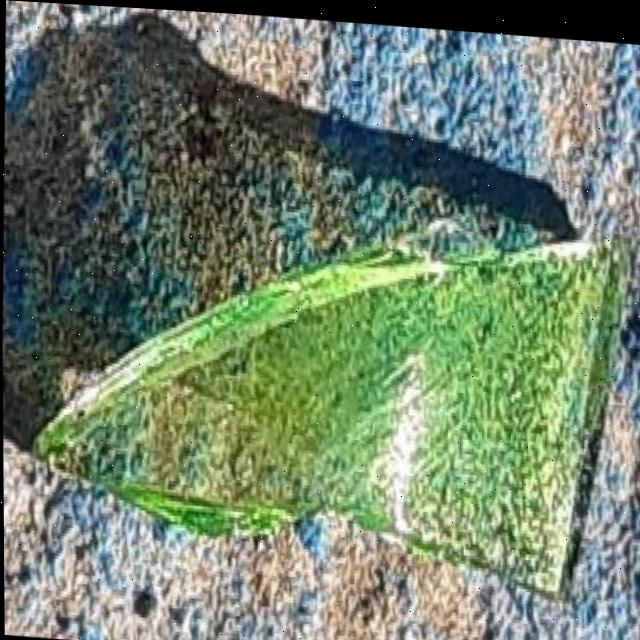Dry: (31, 187, 623, 602)
